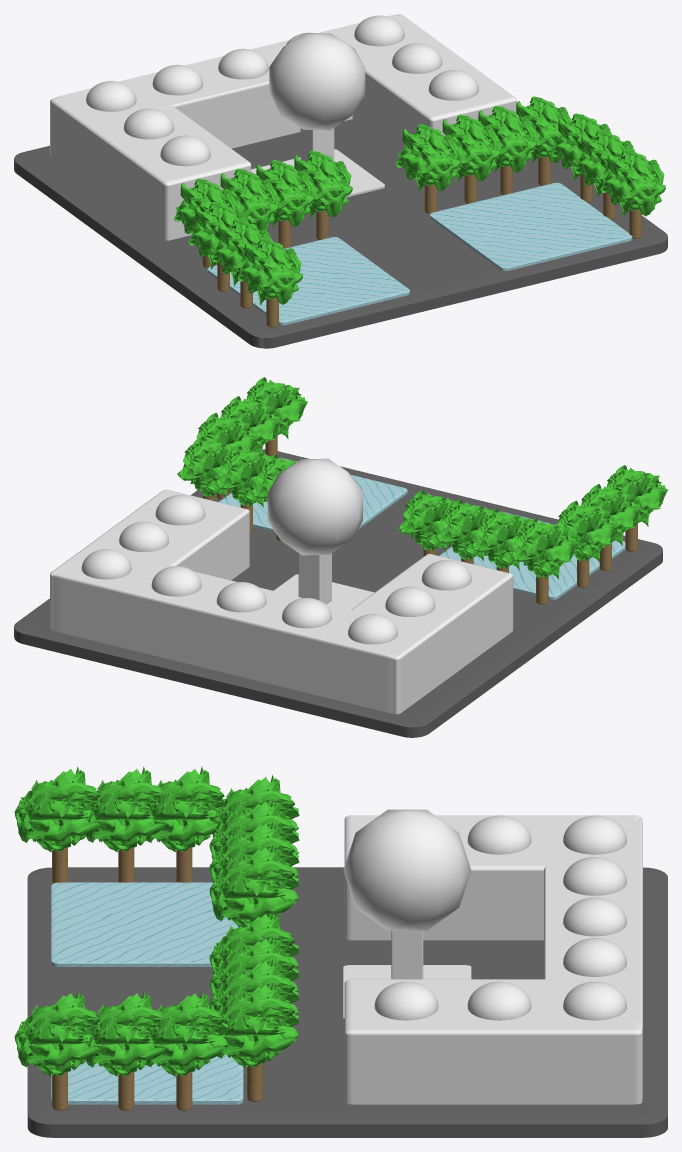
File: city_hall.glb
The picture shows the model from 3 angles, top to bottom: view 1: azimuth 30°, elevation 25°; view 2: azimuth 150°, elevation 25°; view 3: azimuth 270°, elevation 25°; orthographic projection. The views are drawn at different scales.
Visible parts, largest first — view 1: land, Box 2, Torus 2 (×14), right_water, Torus (×14), Box 3, Box 1, Torus 3 (×11), head, left_water, Sphere 6, Sphere 3 (+8 smaller); view 2: land, Box 1, Box 2, Box 3, head, Torus 2 (×8), Torus (×7), Torus 3 (×4), left_water, right_water, pilar, Sphere 3 (+10 smaller); view 3: land, Box 3, Torus 2 (×14), left_water, Box 2, head, Torus (×14), Torus 3 (×8), Box 1, Torus 1 (×8), right_water, stump (×6) (+10 smaller).
Part boxes in pixels (x1,y1,x2,y2): land: [14, 119, 667, 348]; Box 2: [50, 80, 251, 240]; Torus 2 (×14): [191, 96, 665, 305]; right_water: [429, 182, 632, 270]; Torus (×14): [180, 101, 658, 286]; Box 3: [332, 14, 516, 170]; Box 1: [54, 14, 422, 148]; Torus 3 (×11): [188, 134, 661, 304]; head: [269, 33, 365, 130]; left_water: [207, 237, 409, 325]; Sphere 6: [218, 48, 268, 79]; Sphere 3: [354, 15, 404, 46]; land: [14, 449, 662, 737]; Box 1: [53, 549, 419, 713]; Box 2: [323, 554, 513, 714]; Box 3: [50, 489, 249, 630]; head: [267, 458, 362, 555]; Torus 2 (×8): [187, 439, 604, 579]; Torus (×7): [190, 444, 610, 574]; Torus 3 (×4): [273, 395, 667, 568]; left_water: [439, 512, 625, 599]; right_water: [218, 458, 407, 532]; pilar: [298, 553, 331, 603]; Sphere 3: [81, 549, 131, 579]; land: [27, 867, 667, 1137]; Box 3: [344, 979, 642, 1104]; Torus 2 (×14): [20, 780, 299, 1069]; left_water: [51, 882, 238, 966]; Box 2: [344, 815, 642, 940]; head: [343, 809, 471, 930]; Torus (×14): [15, 766, 281, 1076]; Torus 3 (×8): [15, 779, 299, 1067]; Box 1: [544, 818, 642, 1099]; Torus 1 (×8): [14, 791, 286, 1050]; right_water: [51, 1054, 243, 1104]; stump (×6): [52, 847, 262, 1110].
Size of the model in its own units: 1.93 by 0.6811 by 2.04.
89 materials, 16 textured.
